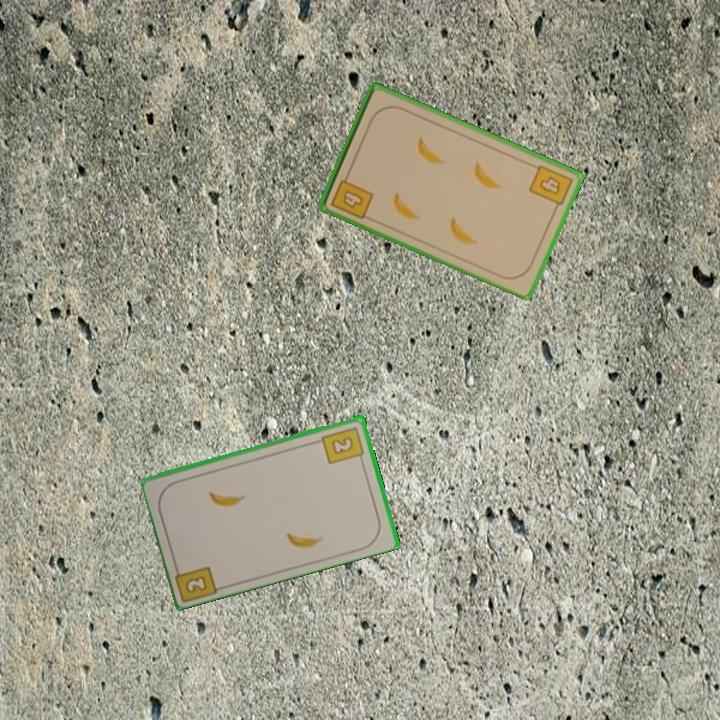2b: (171, 559, 222, 603), (319, 423, 367, 467)
4b: (525, 161, 576, 214), (328, 169, 376, 222)
